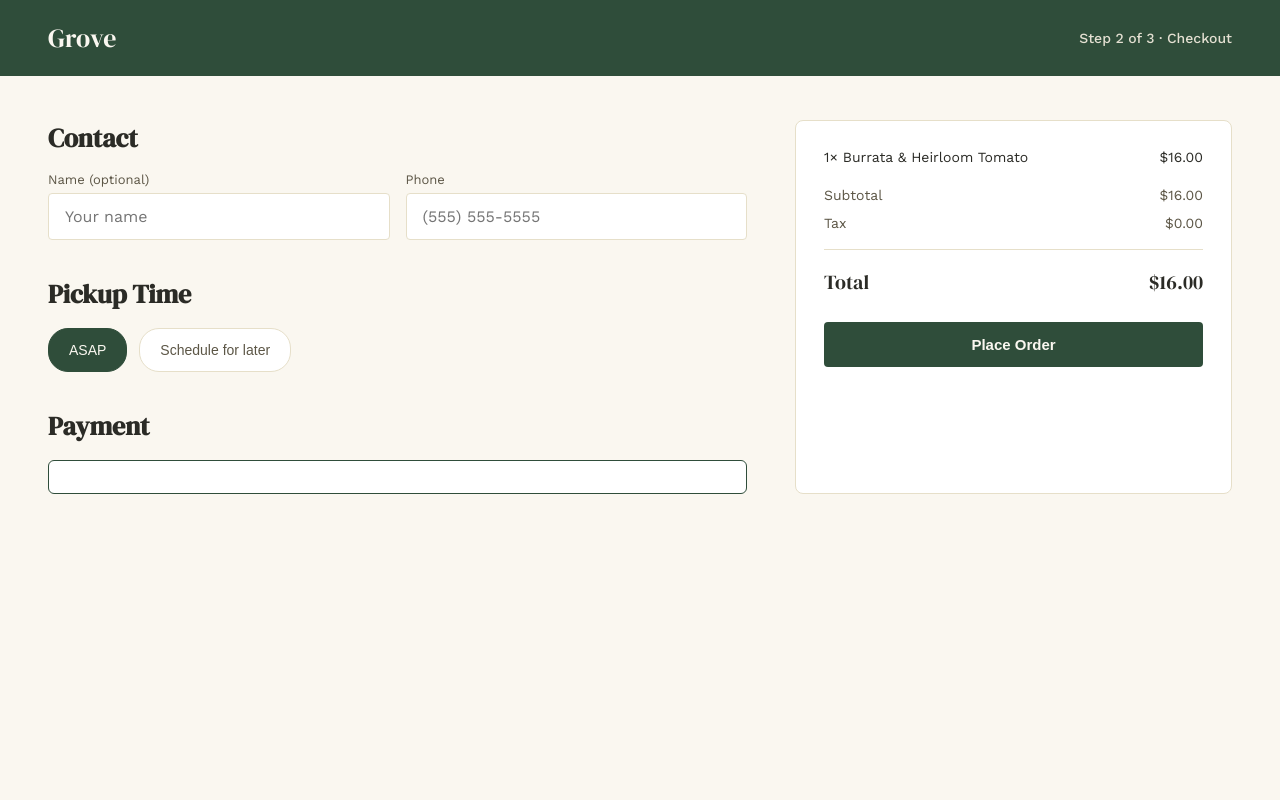
Scenario: CheckoutView › shows an error and stays on Checkout when payment fails
Type "Jane Doe" into the field labelled "Name (optional)" at (219, 216), box [48, 193, 390, 240]
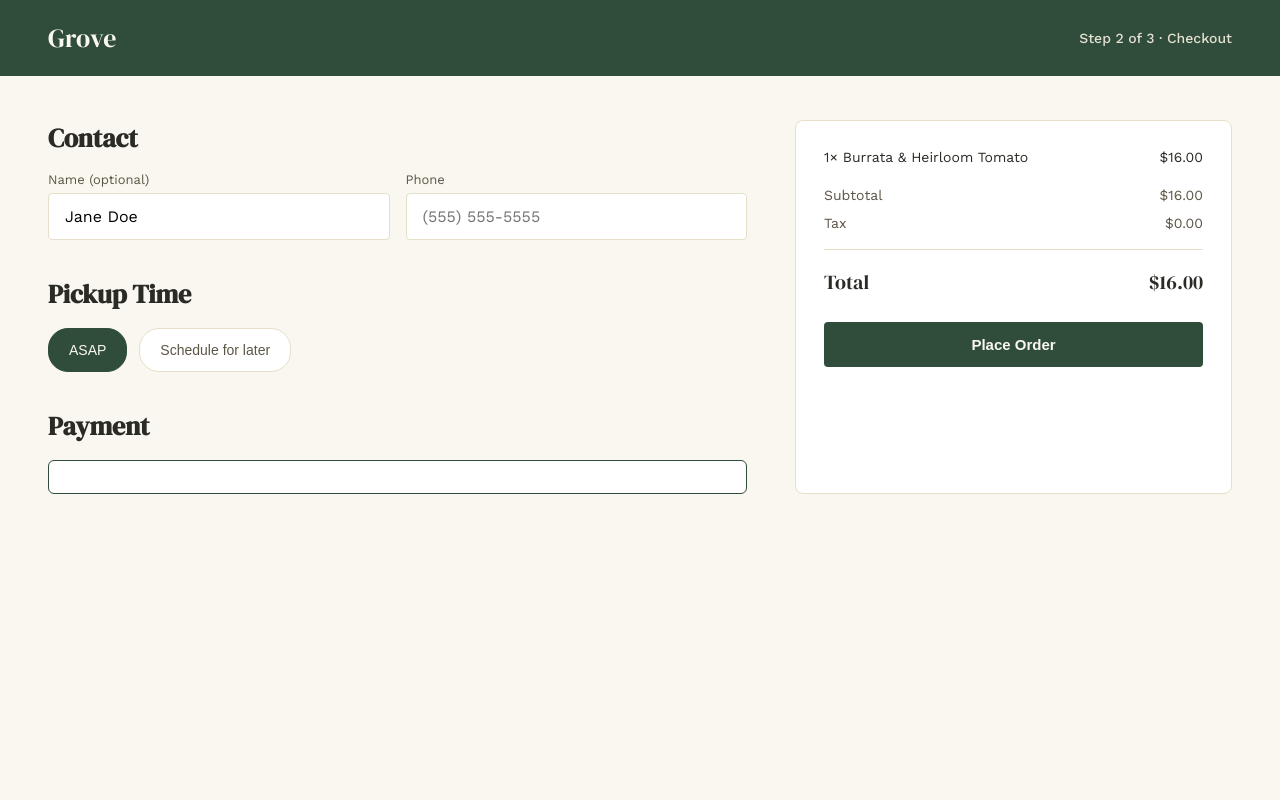
Type "+15551234567" into the field labelled "Phone" at (576, 216), box [406, 193, 747, 240]
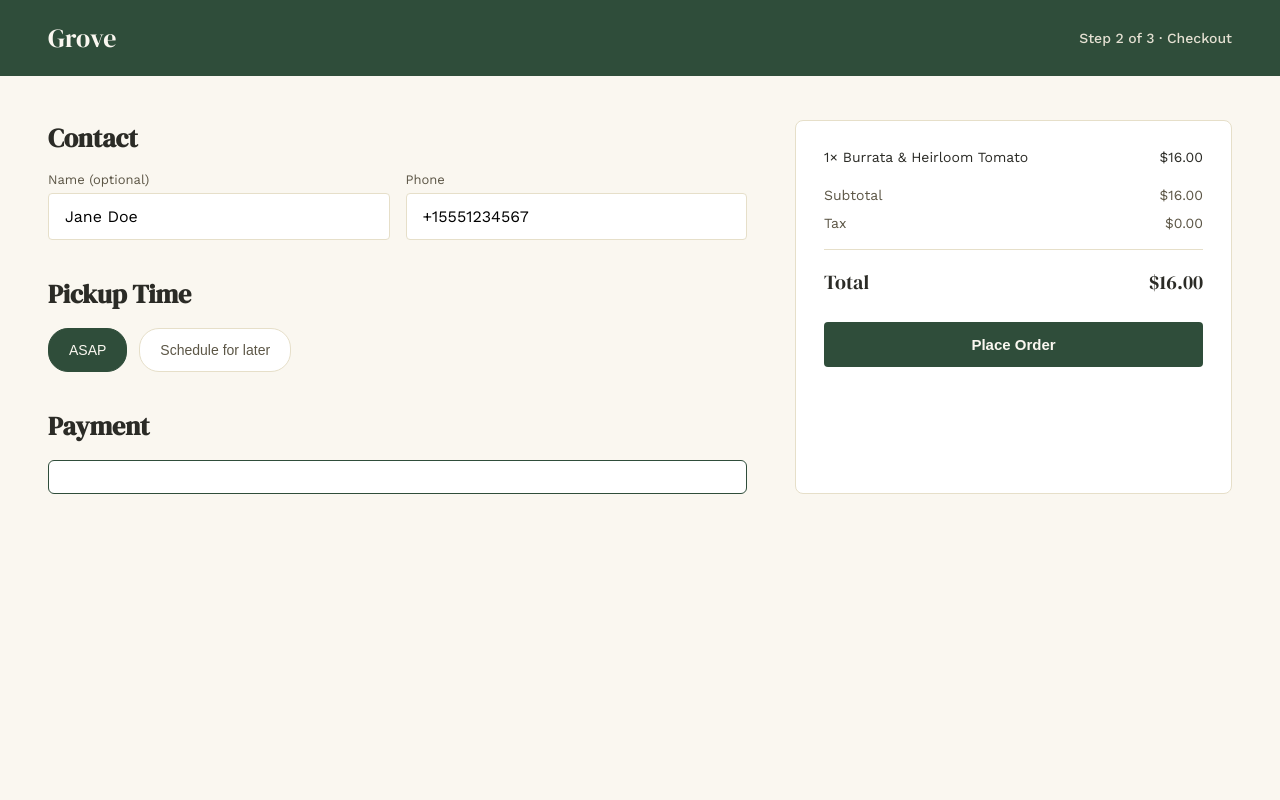
Click the button with class "cta" at (1014, 344), box [824, 322, 1203, 367]
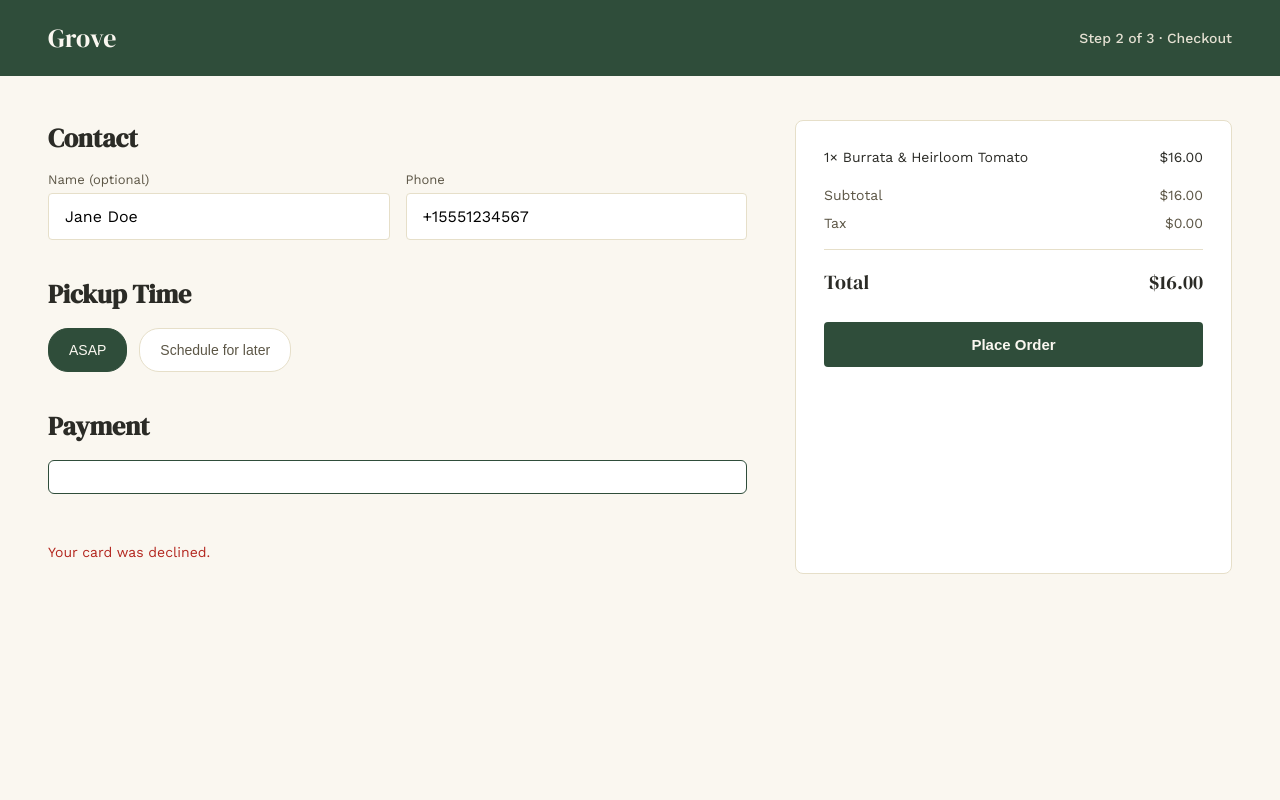
Expected: the text "Your card was declined." is shown, [48, 544, 210, 560]
